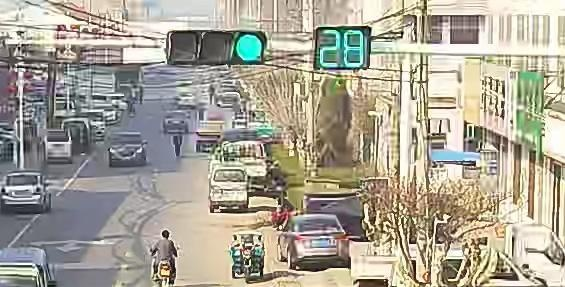green: (229, 33, 269, 63)
greentime: (314, 26, 370, 72)
